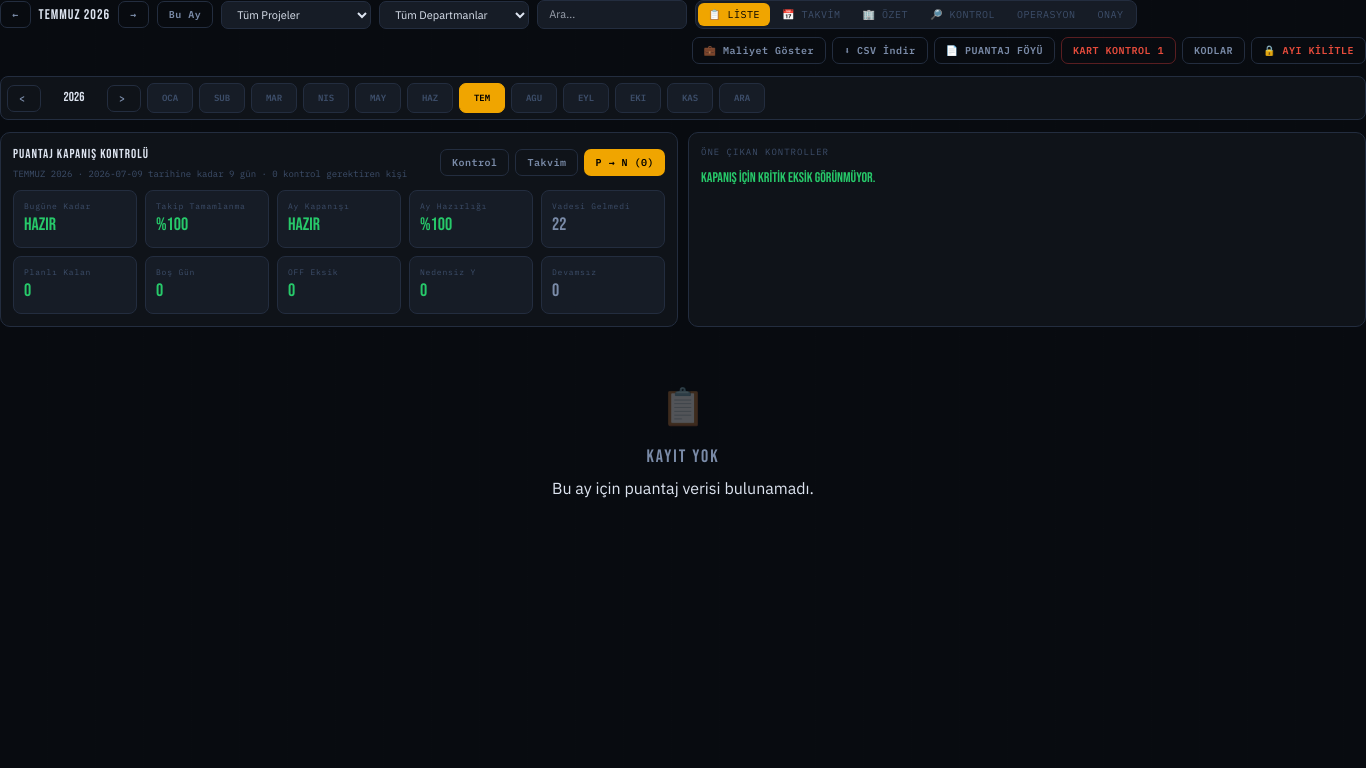
Test case: PuantajTab smoke › kart kontrol sayaci istisna calisma alanini acar
Click the button "KART KONTROL 1" at (1118,50), box [1061,37,1176,64]
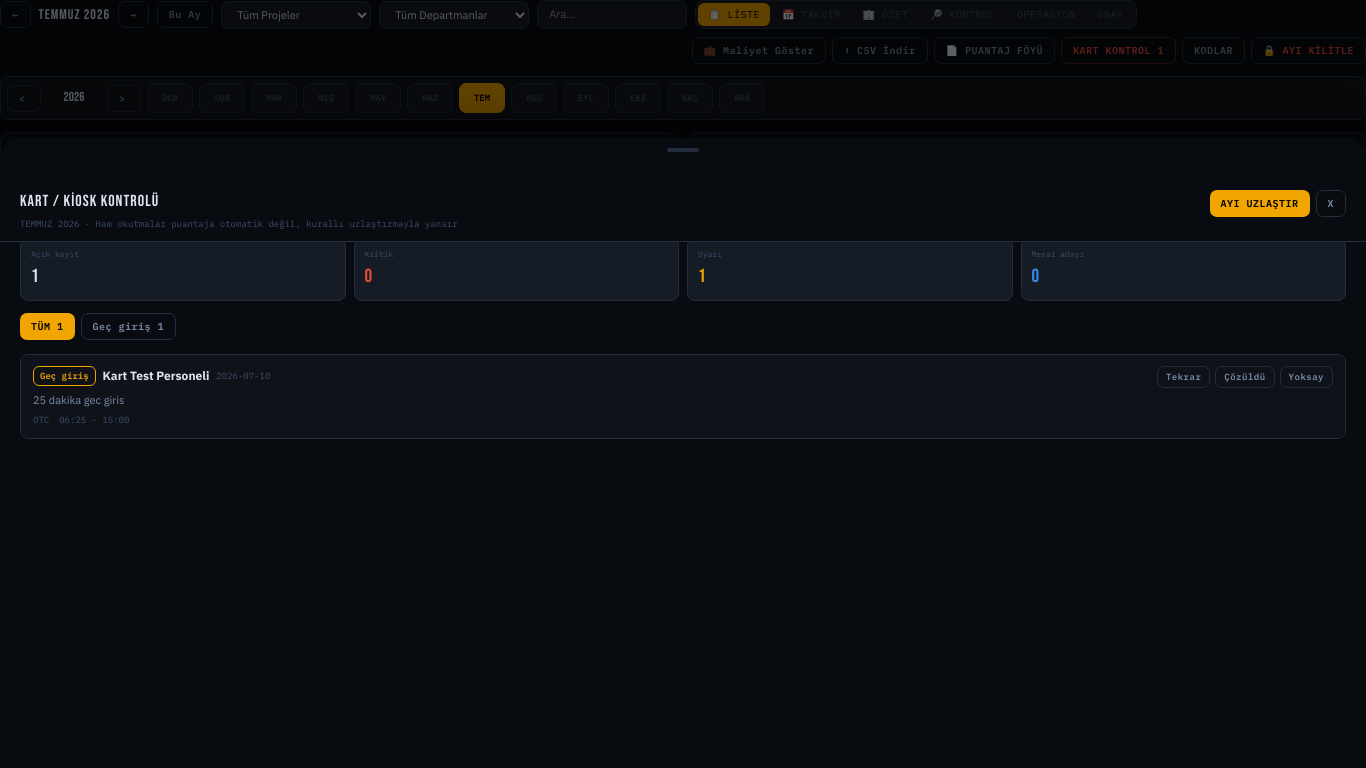
Now the text "KART / KİOSK KONTROLÜ" is shown, box [20,192,159,211]
Now the button "Kart Test Personeli" is shown, box [103,367,209,385]
Now the text "25 dakika gec giris" is shown, box [33,393,124,407]
